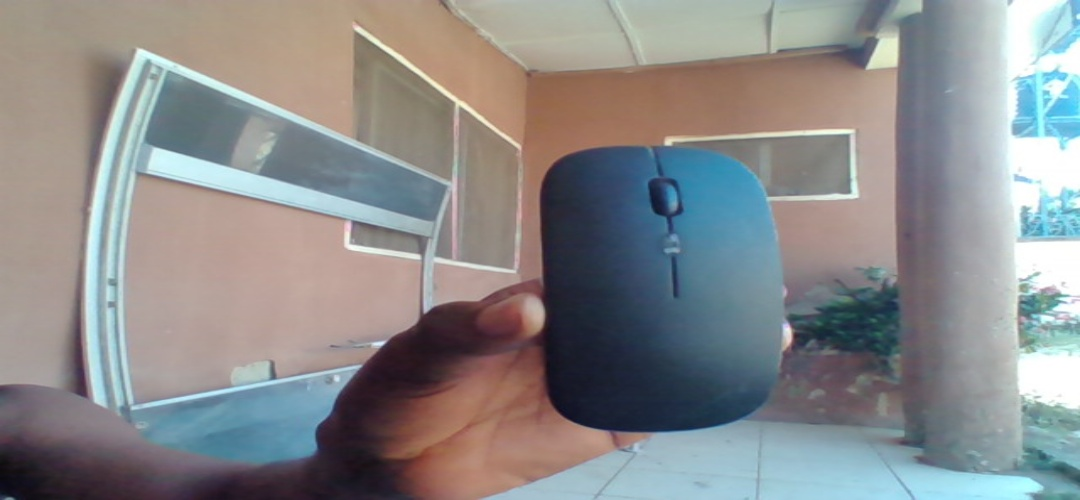wireless_mouse: (528, 140, 788, 433)
